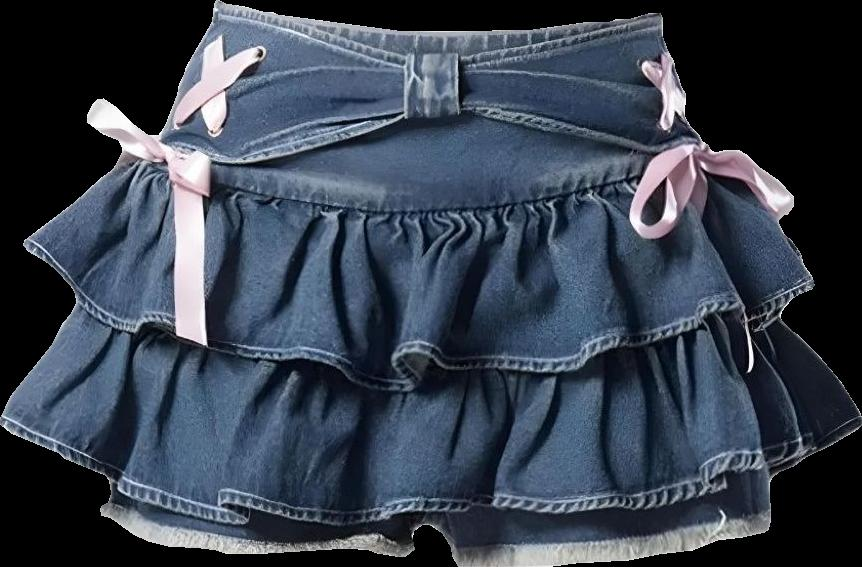Hemline: (27, 109, 815, 398), (0, 419, 861, 527), (99, 509, 770, 566)
Waistline: (145, 144, 705, 216), (214, 0, 657, 63)
